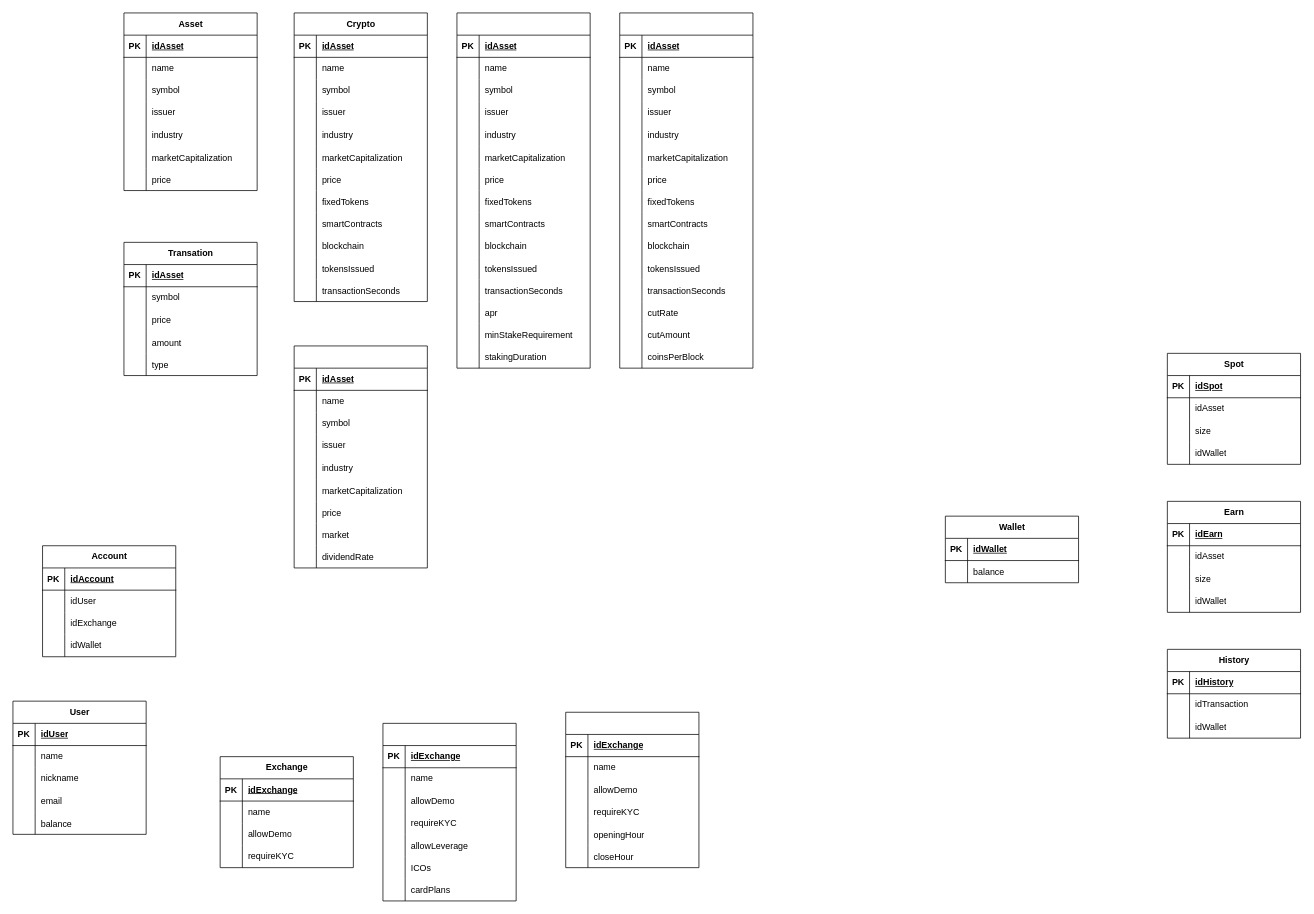
The diagram is 1314 pixels wide and 914 high, and some of its shapes have lost their labels. The shapes that lost their labels are listed below. From the top down, each one's box as (x1, y1, x2, y2) in pixels, then its label:
(456, 12, 590, 368): CryptoPOS
(619, 12, 753, 368): CryptoPOW
(293, 345, 427, 568): Stock
(565, 712, 699, 868): StockExchange
(382, 723, 516, 901): CryptoExchange
